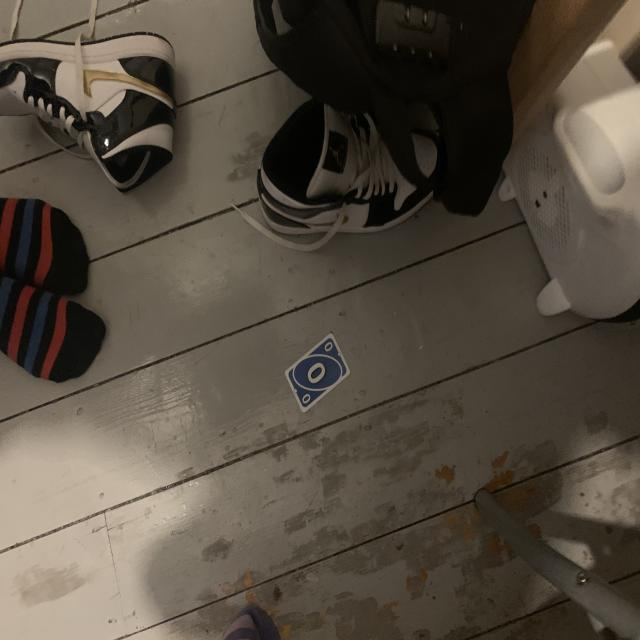lblue-0: (321, 339, 334, 353)
